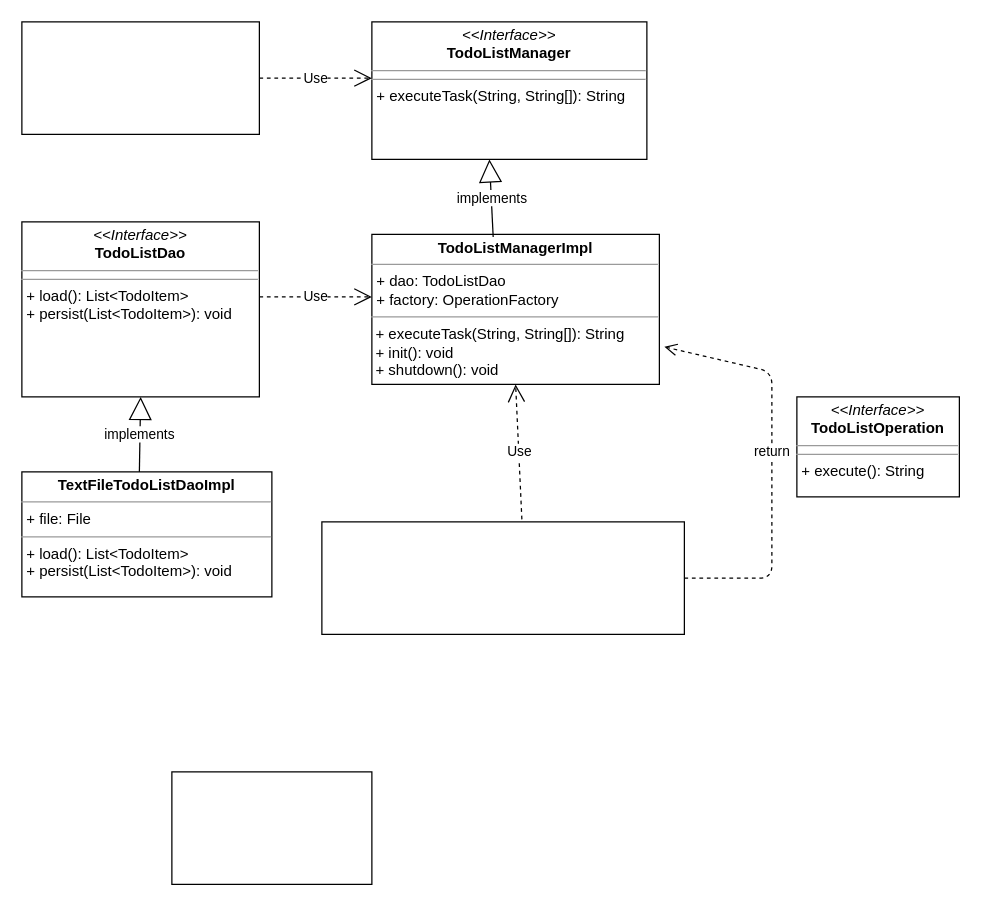
This 981x906 diagram has some shape labels left out. Each missing label, with the centre of its shape:
Class + field: Type + method(): Type: point 271,827
ConsoleController + manager: TodoListManager + run(): void: point 140,77
OperationFactory + getOperation(String, String[]): TodoListOperation: point 502,577
